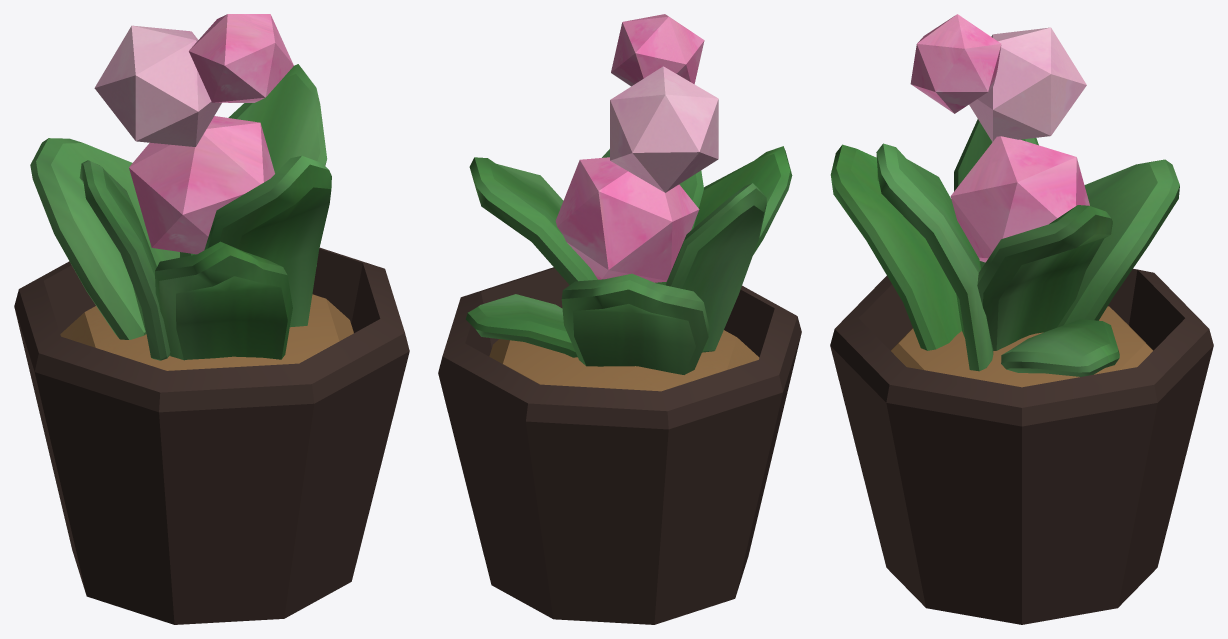
File: plant_cute.glb
The picture shows the model from 3 angles, left to right: view 1: azimuth 30°, elevation 25°; view 2: azimuth 150°, elevation 25°; view 3: azimuth 270°, elevation 25°; orthographic projection. The views are drawn at different scales.
Visible parts, largest first — view 1: plant_geo1; view 2: plant_geo1; view 3: plant_geo1.
Boxes of the visible parts, x1=… form: plant_geo1: x1=14, y1=14, x2=409, y2=624; plant_geo1: x1=438, y1=14, x2=801, y2=624; plant_geo1: x1=830, y1=14, x2=1213, y2=624.
Bounding box in the file's own units: 0.2237 × 0.3507 × 0.2237.
1 material, 1 textured.
